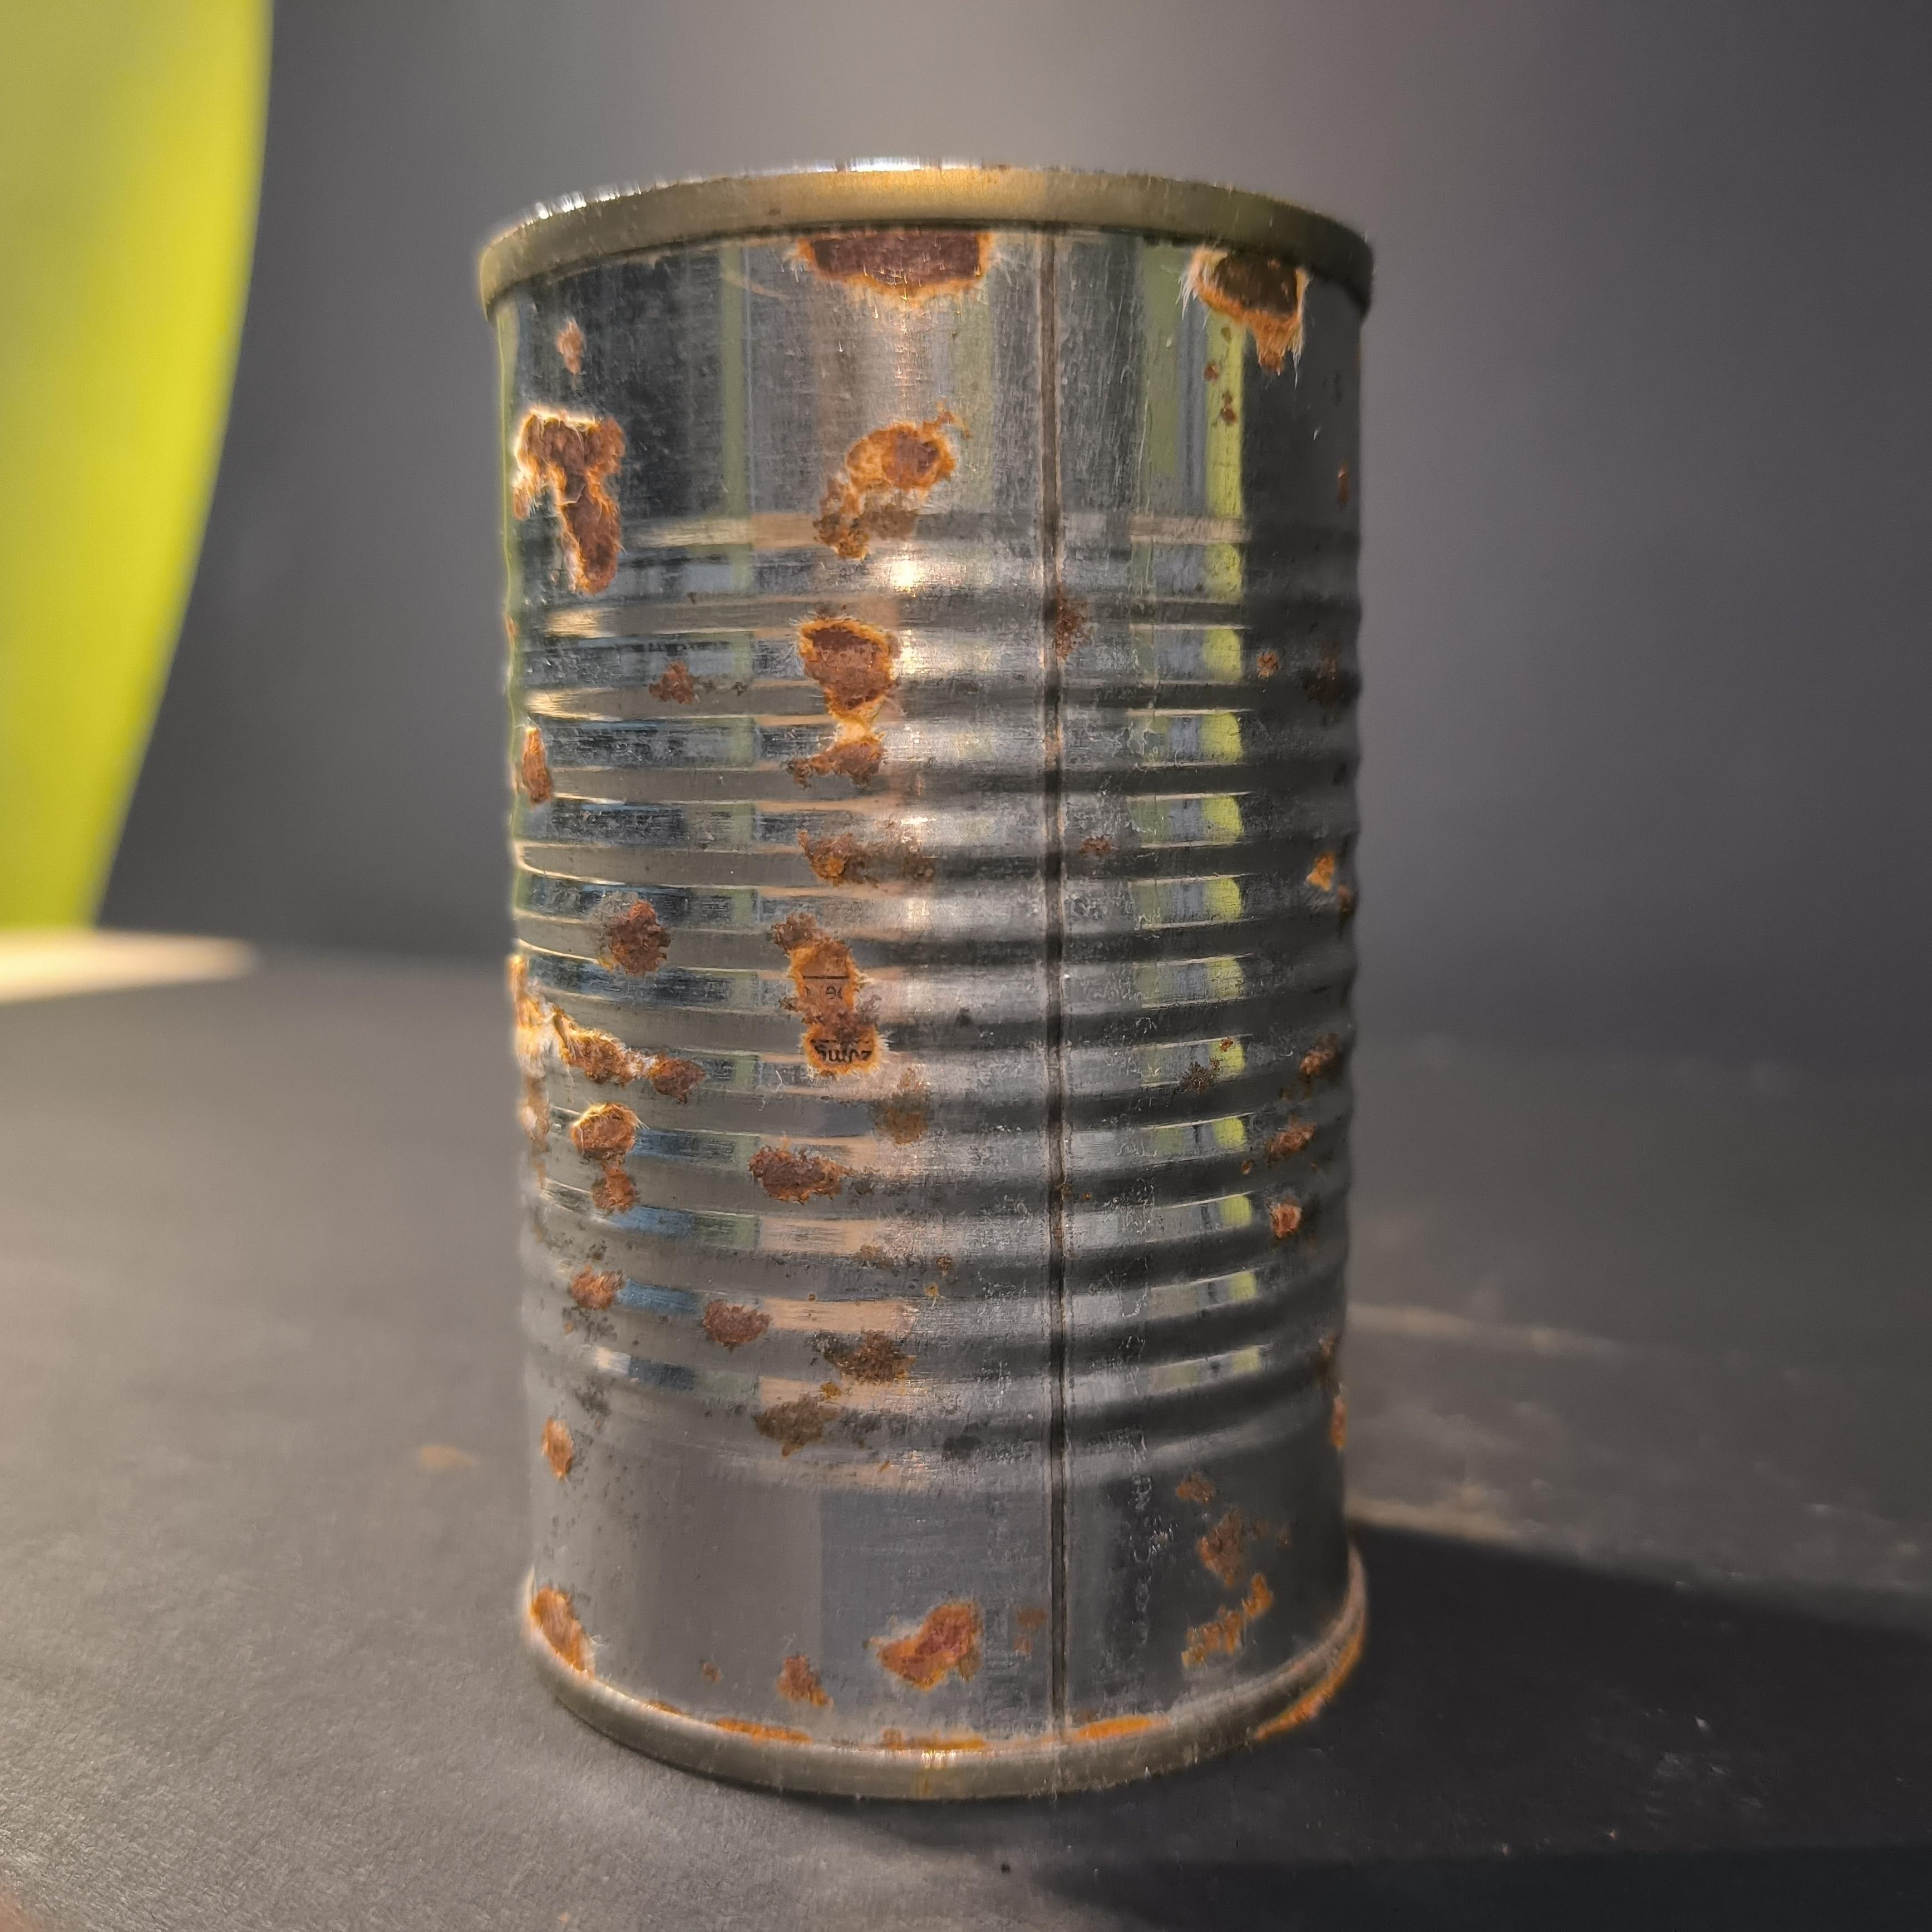Rusted: (456, 150, 1403, 1799)
